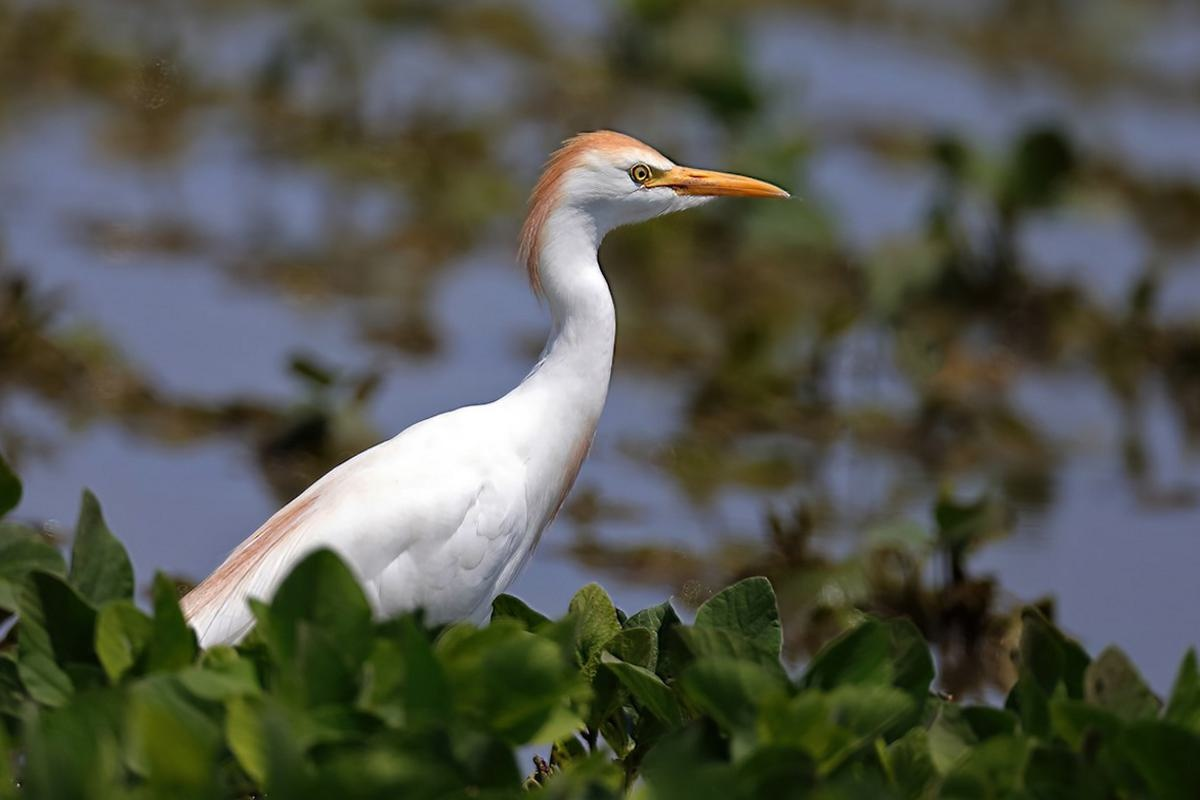egret: (178, 121, 813, 686)
